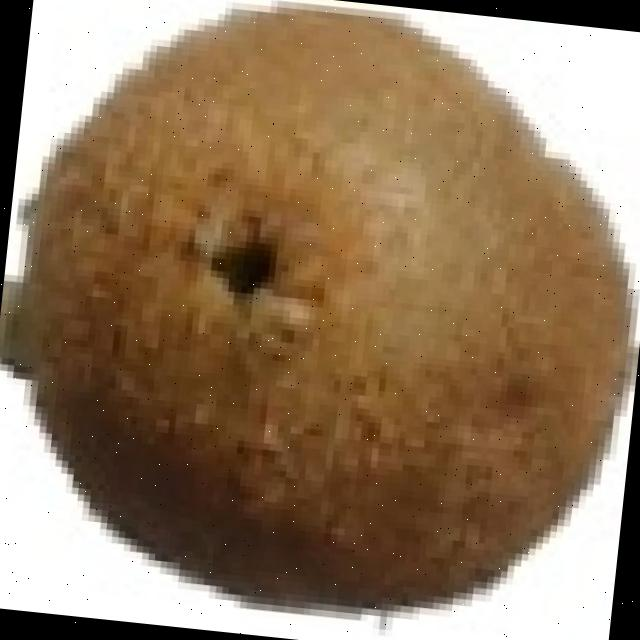kiwi: (1, 12, 628, 608)
